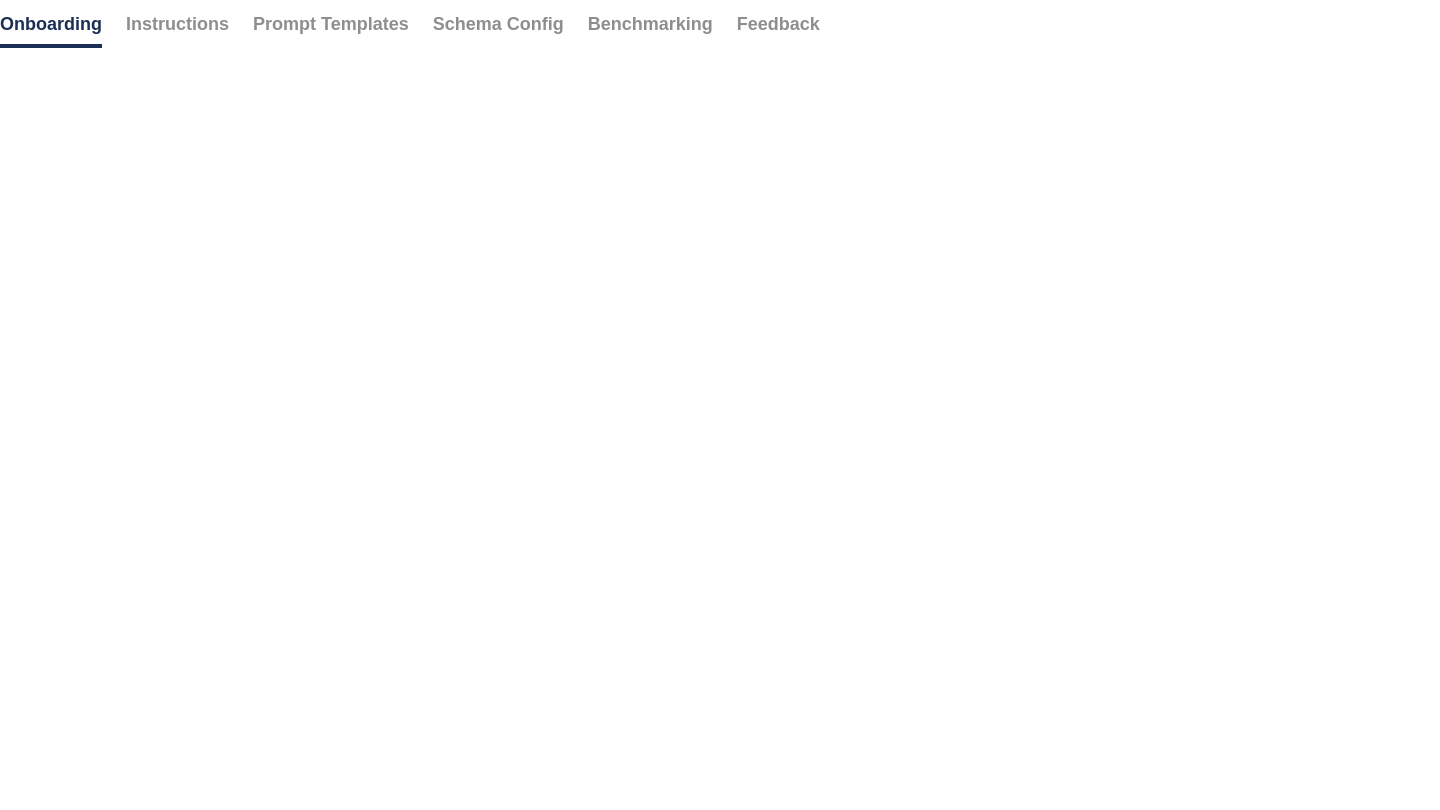
Scenario: SettingTabsSection › should stay on the current tab when "Stay" is clicked
The width and height of the screenshot is (1440, 810).
Click the tab "Instructions". click: (178, 24)
box: [126,0,229,48]
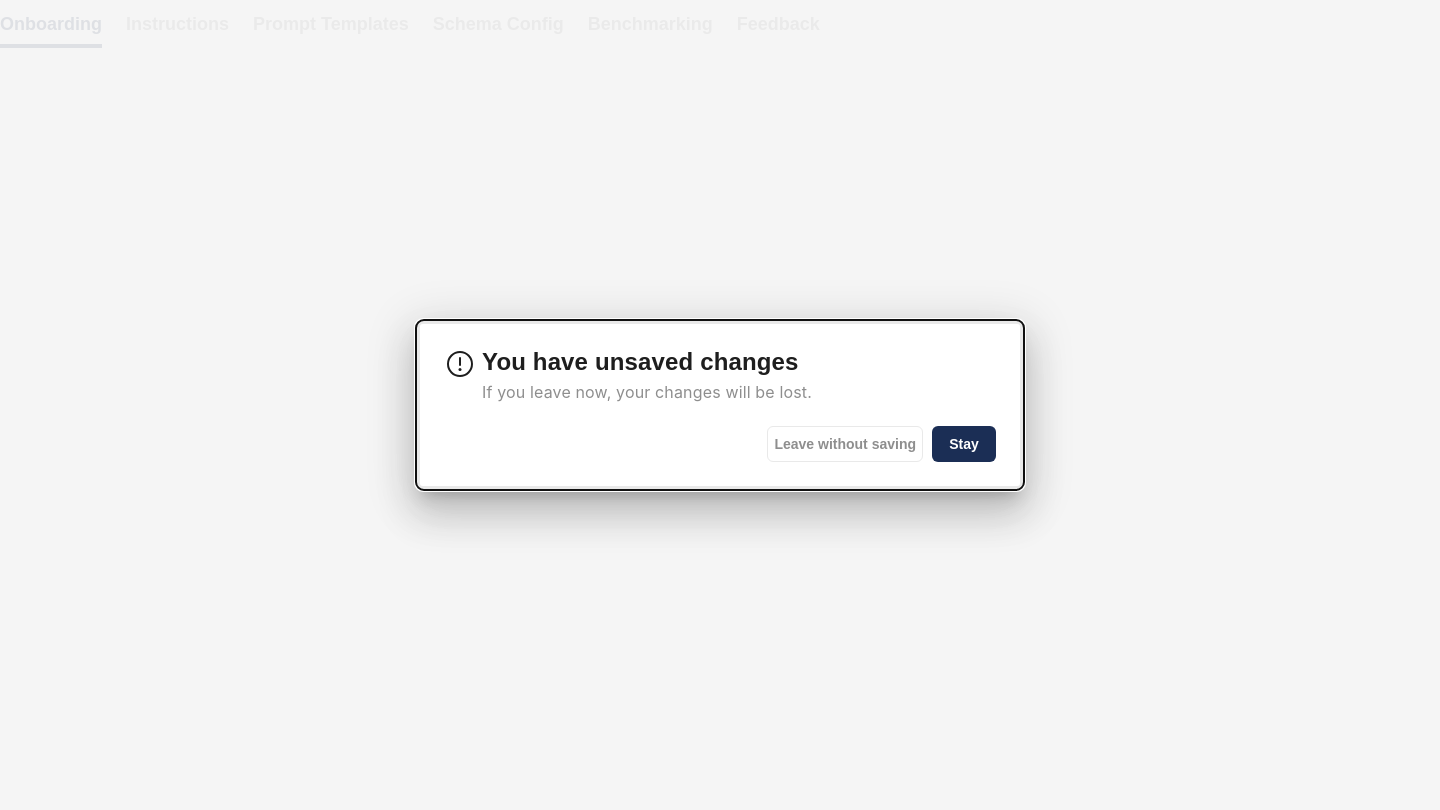
Result: the element with test id "warning-dialog" is shown
Click the button "Stay". click: (964, 444)
box: [932,426,996,462]
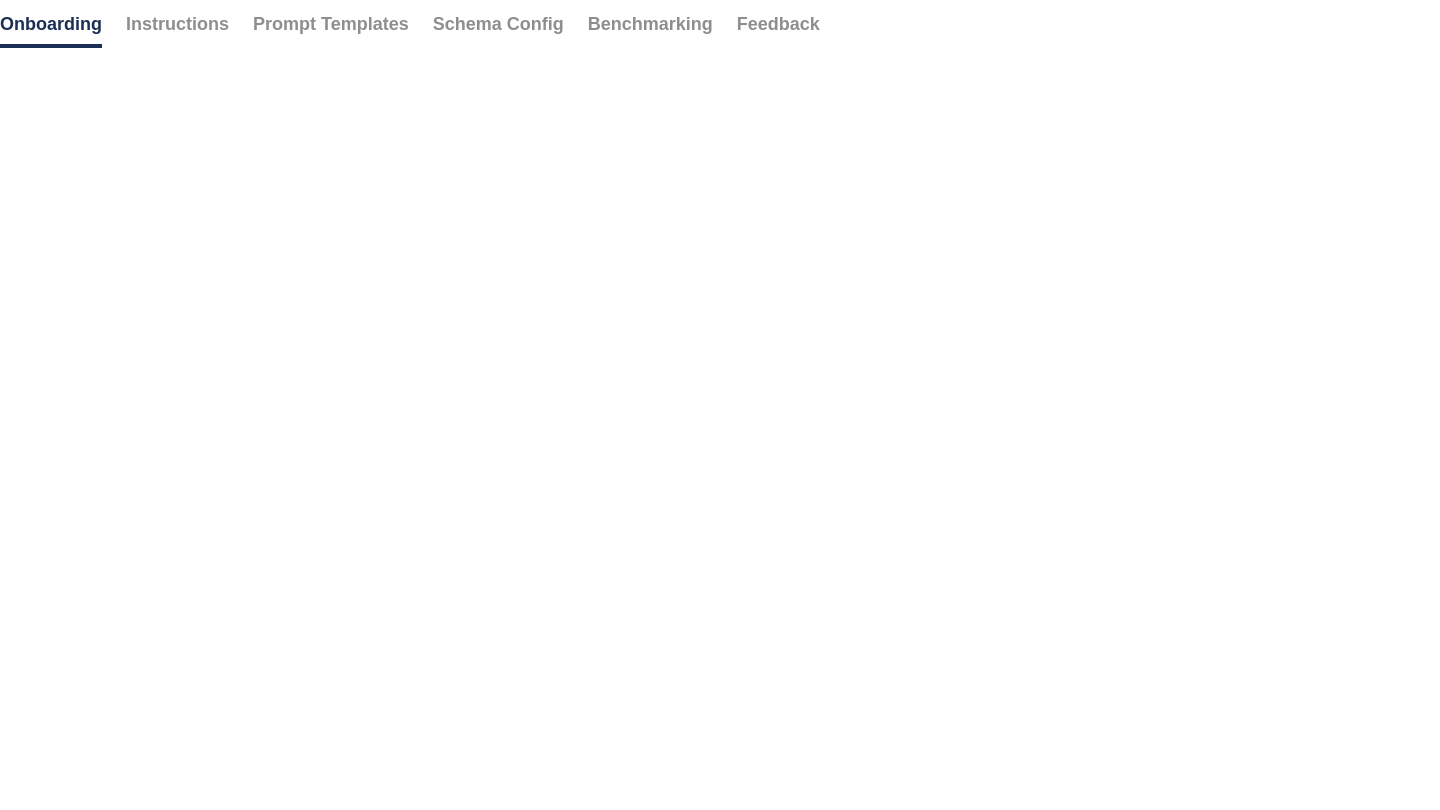
Result: the element with test id "warning-dialog" is gone
